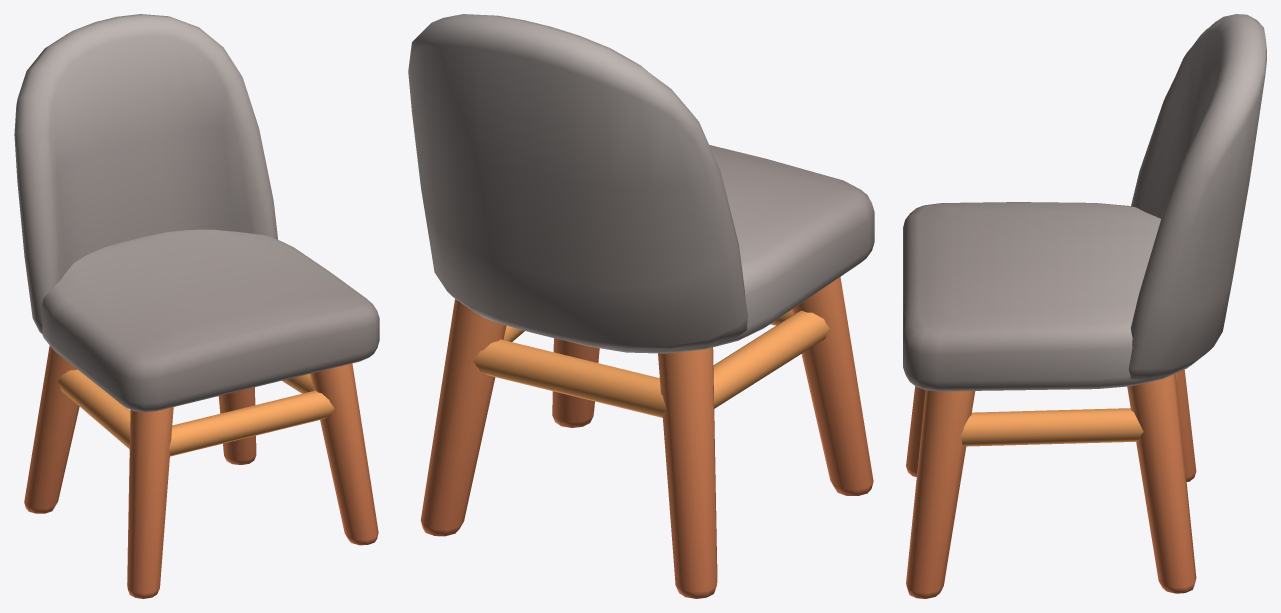
File: Armchair_23.glb
3 renders of one model, left to right at view 1: azimuth 30°, elevation 25°; view 2: azimuth 150°, elevation 25°; view 3: azimuth 270°, elevation 25°, orthographic. The views are drawn at different scales.
Parts seen in each view (by area): view 1: Armchair_23; view 2: Armchair_23; view 3: Armchair_23.
Part boxes in pixels (<box>): Armchair_23: <box>14,14,379,598</box>; Armchair_23: <box>408,14,874,598</box>; Armchair_23: <box>903,14,1266,598</box>.
Bounding box in the file's own units: 0.4786 × 0.7907 × 0.522.
Materials: 1 (1 with a texture image).
